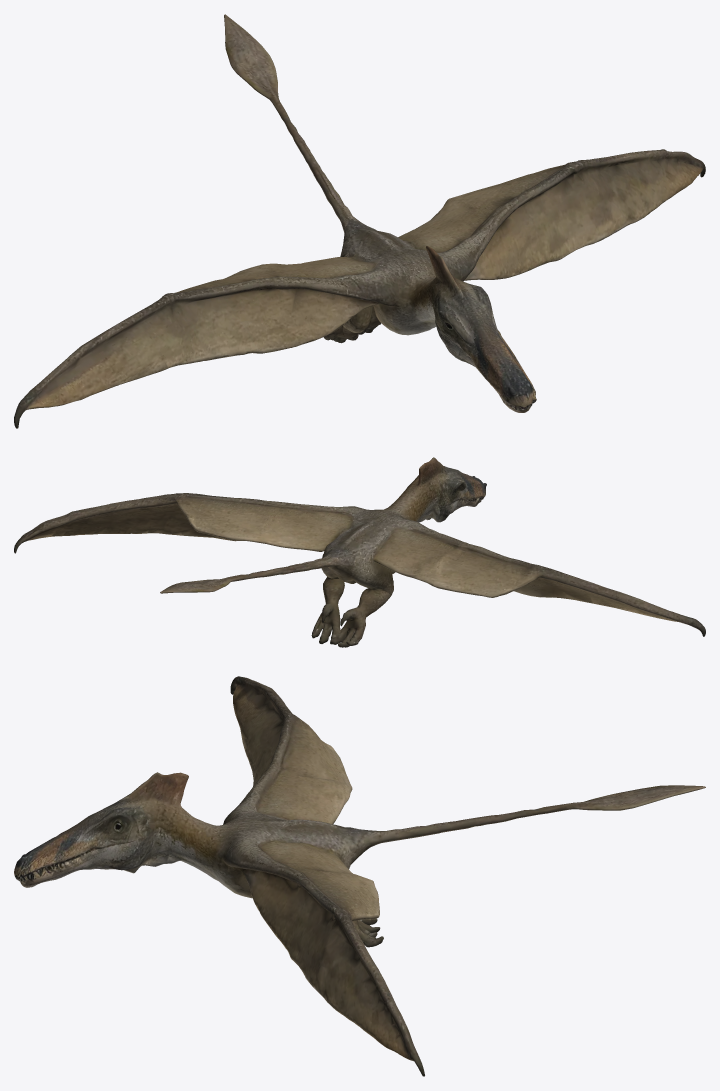
The model's file is dimorphodon.glb.
3 views of the same model, one above another, from view 1: azimuth 30°, elevation 25°; view 2: azimuth 150°, elevation 25°; view 3: azimuth 270°, elevation 25° (orthographic). The views are drawn at different scales.
Parts seen in each view (by area): view 1: dino; view 2: dino; view 3: dino.
Part boxes in pixels (x1,y1,x2,y2): dino: (14,14,705,428); dino: (14,457,705,647); dino: (14,676,705,1076).
Size of the model in its own units: 1.4 by 0.3111 by 1.1.
1 material, 1 textured.
